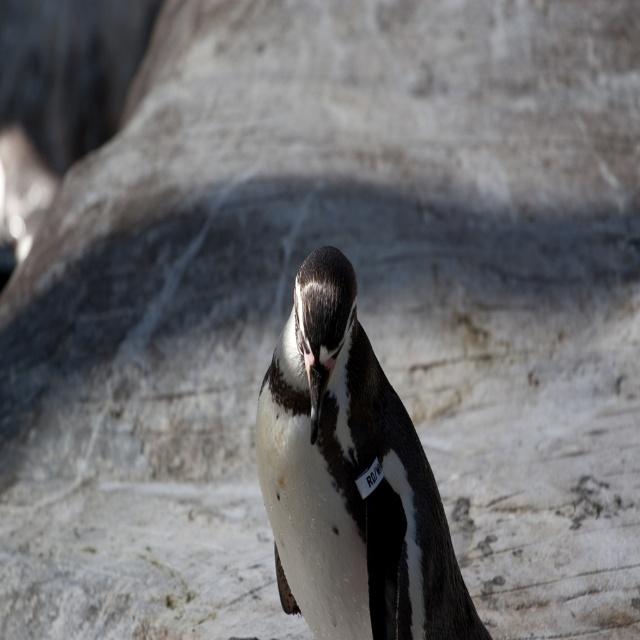Penguin: (248, 258, 509, 626)
